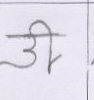i_matra: (35, 19, 58, 74)
